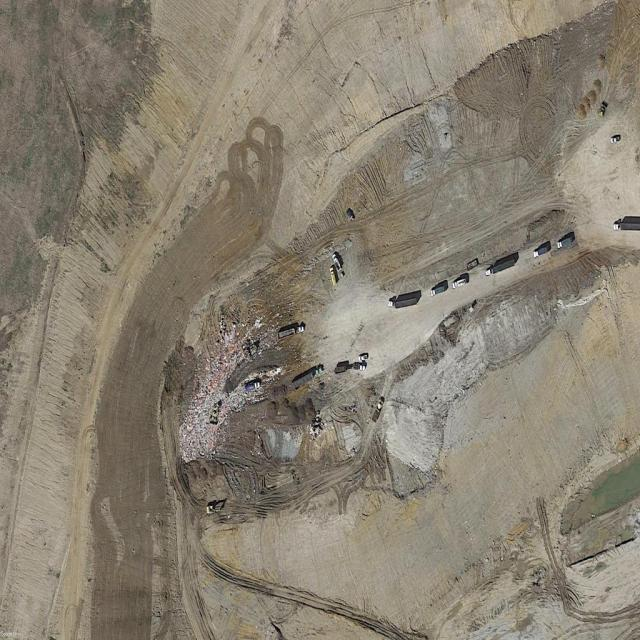dump_site: (170, 303, 286, 496)
